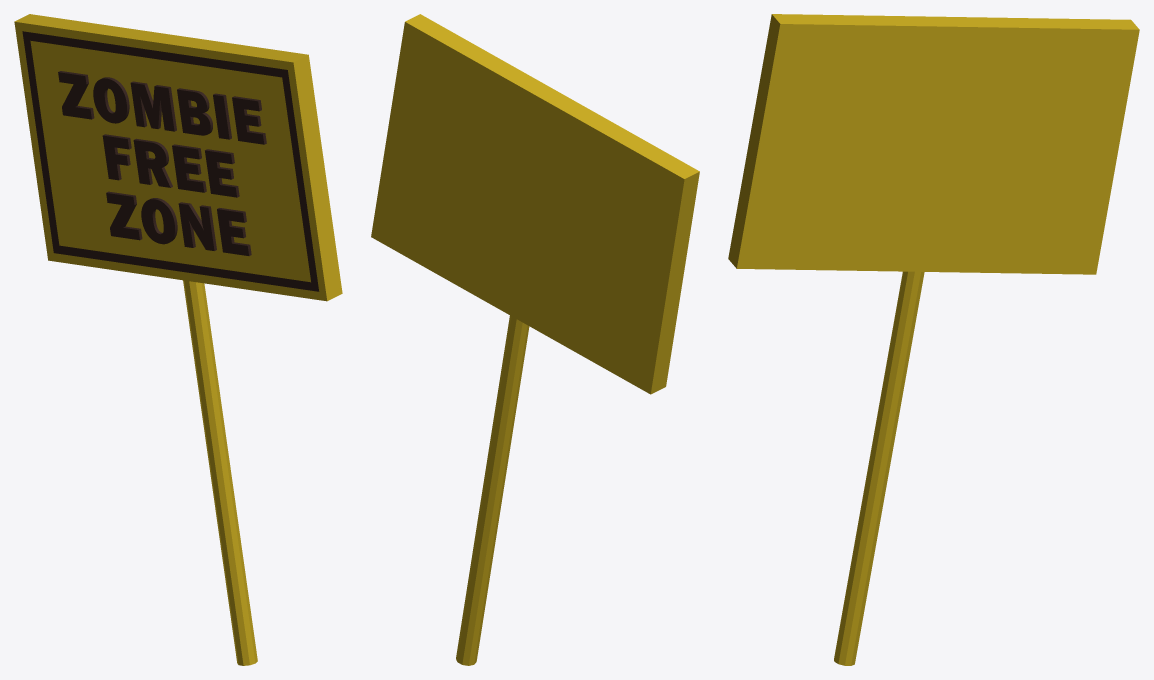
The model's file is 09 Signboard_6.FBX.
3 views of the same model, side by side, from view 1: azimuth 30°, elevation 25°; view 2: azimuth 210°, elevation 25°; view 3: azimuth 270°, elevation 25° (orthographic). The views are drawn at different scales.
Parts seen in each view (by area): view 1: Board; view 2: Board; view 3: Board.
Boxes of the visible parts, left/top/right/bottom form: Board: left=14, top=14, right=342, bottom=665; Board: left=371, top=14, right=699, bottom=665; Board: left=728, top=14, right=1139, bottom=665.
Bounding box in the file's own units: 588 × 2499 × 1423.
